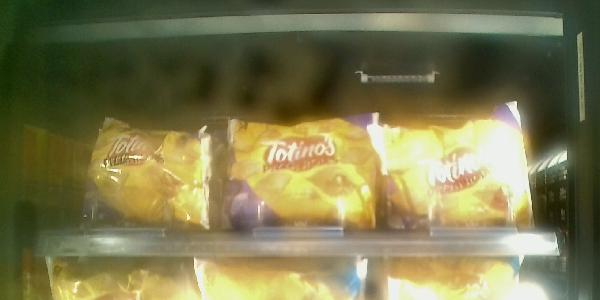icecream: (378, 103, 547, 235), (222, 116, 381, 228), (75, 116, 212, 234)
